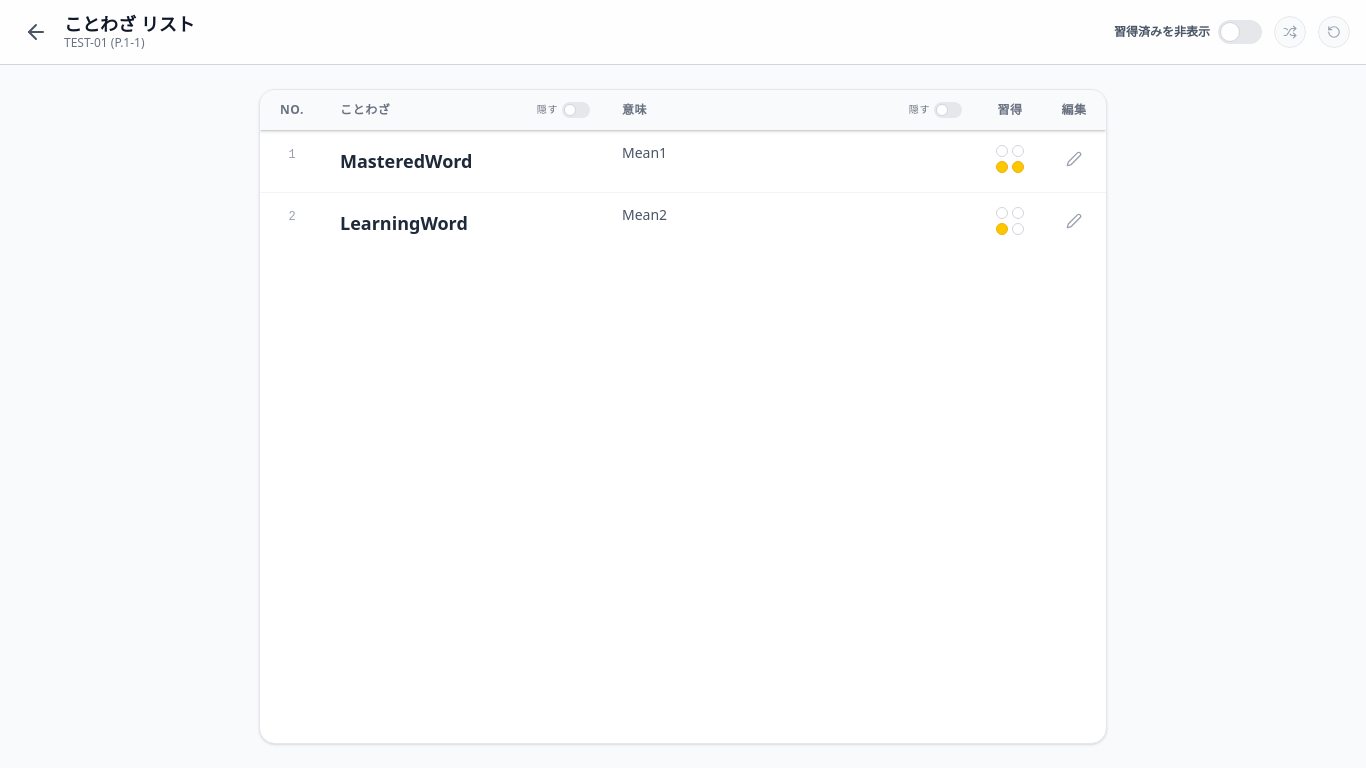
Test: WordList › 「習得済みを非表示」をONにすると完全習得の単語が消える
Check: the text "MasteredWord" is shown, box [340,149,472,173]
Click the checkbox labelled "習得済みを非表示".
click(1188, 32)  # box [1114,20,1262,44]
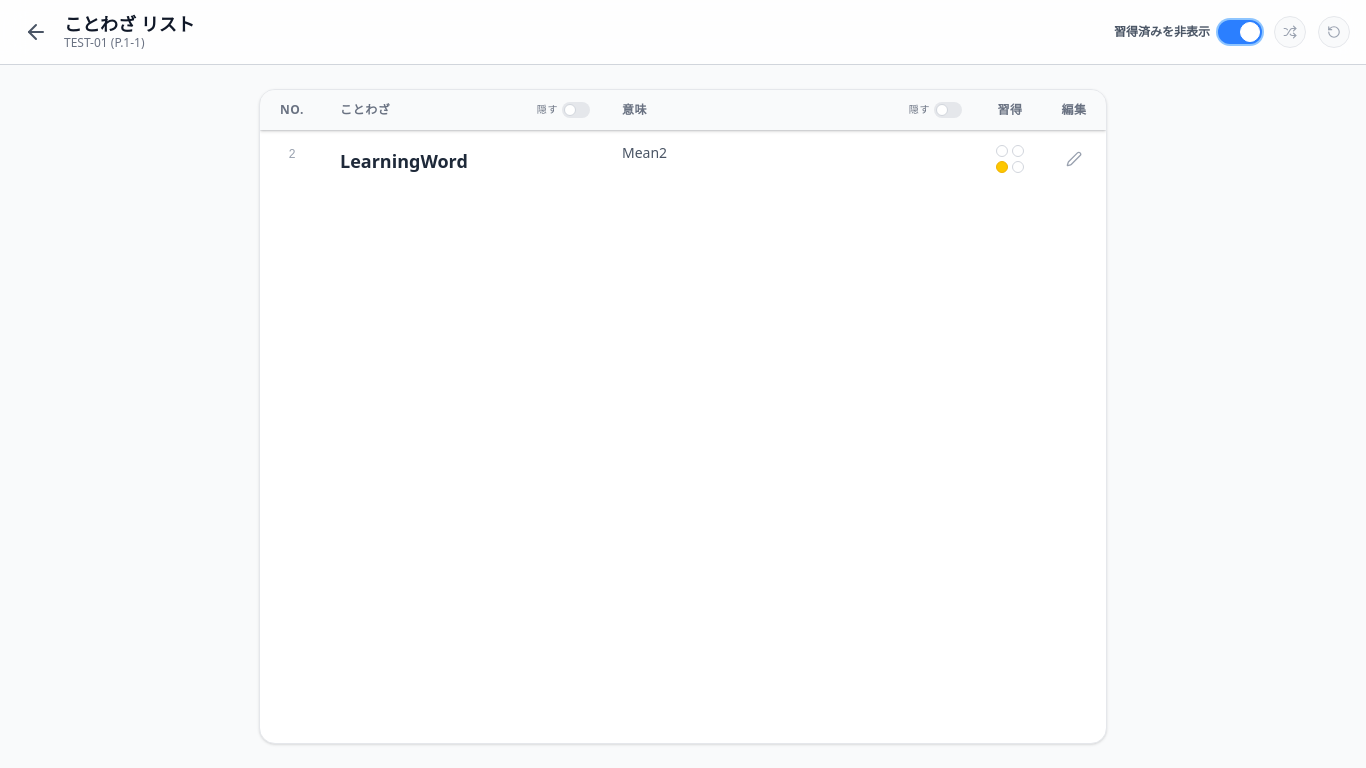
Check: the text "LearningWord" is shown, box [340,149,468,173]
Check: the text "MasteredWord" is gone
